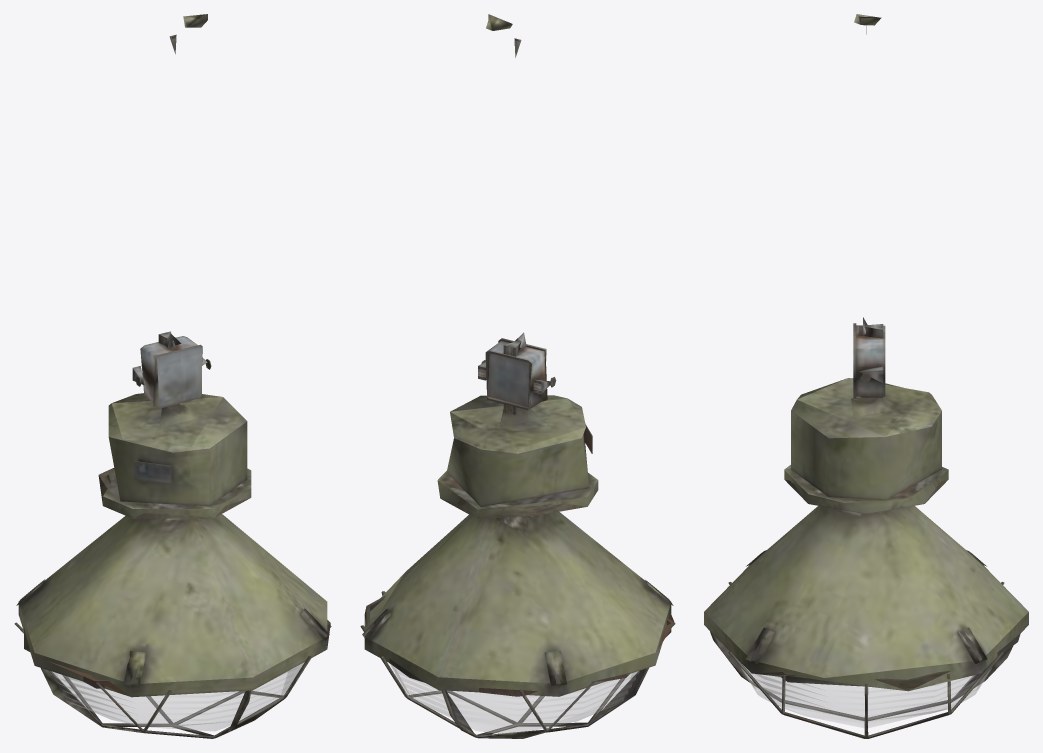
File: hanging_lamp_low.glb
The picture shows the model from 3 angles, left to right: view 1: azimuth 30°, elevation 25°; view 2: azimuth 150°, elevation 25°; view 3: azimuth 270°, elevation 25°; orthographic projection. The views are drawn at different scales.
Parts seen in each view (by area): view 1: hanging_industrial_lamp; view 2: hanging_industrial_lamp; view 3: hanging_industrial_lamp.
Part boxes in pixels (bbox=[...]): hanging_industrial_lamp: bbox=[14, 14, 331, 738]; hanging_industrial_lamp: bbox=[360, 14, 675, 738]; hanging_industrial_lamp: bbox=[704, 14, 1028, 738].
Bounding box in the file's own units: 0.5462 × 1.34 × 0.5496.
Materials: 2 (1 with a texture image).
